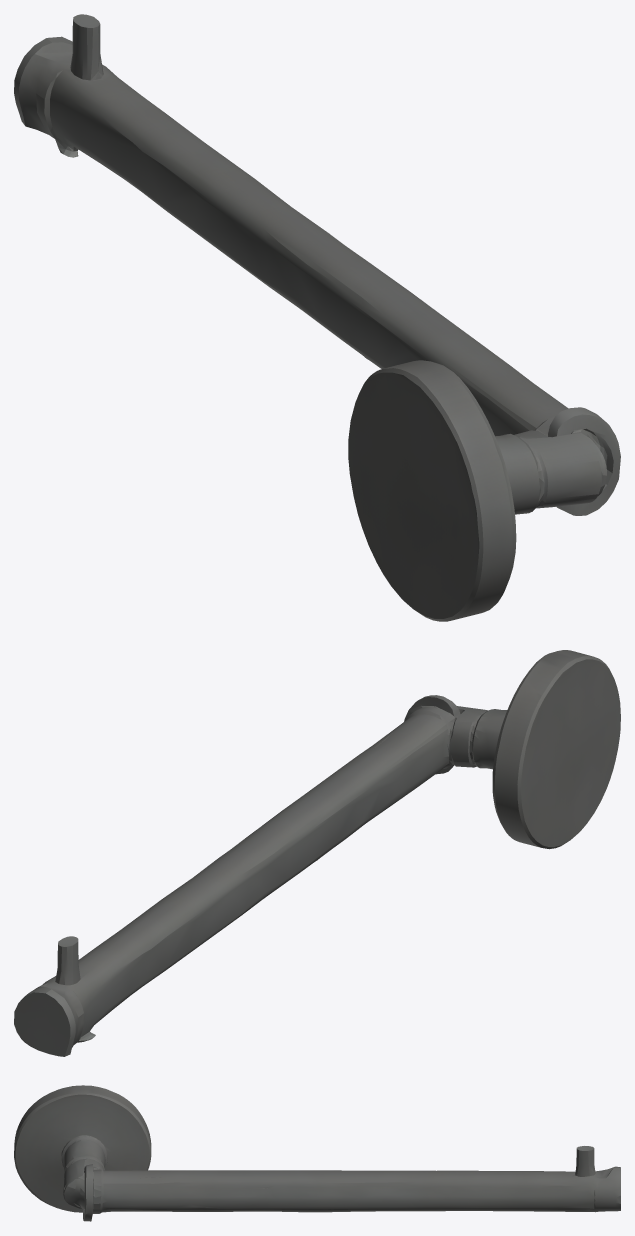
File: rod.glb
3 views of the same model, one above another, from view 1: azimuth 30°, elevation 25°; view 2: azimuth 150°, elevation 25°; view 3: azimuth 270°, elevation 25° (orthographic). The views are drawn at different scales.
Visible parts, largest first — view 1: model; view 2: model; view 3: model.
Boxes of the visible parts, x1,y1,x2,y2 form: model: (14,14,620,621); model: (14,650,620,1056); model: (14,1085,620,1221).
Bounding box in the file's own units: 0.3898 × 0.4139 × 1.9.
1 material, 1 textured.
